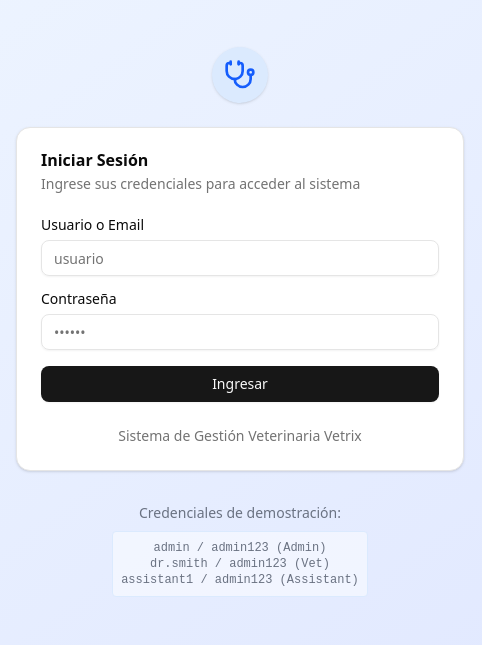
Test: Login Flow Integration › should handle login failure and display error
Expected: the button is enabled, [41,366,439,402]
Type "wrong" into the field labelled "Usuario o Email" at (240, 258), box [41,240,439,276]
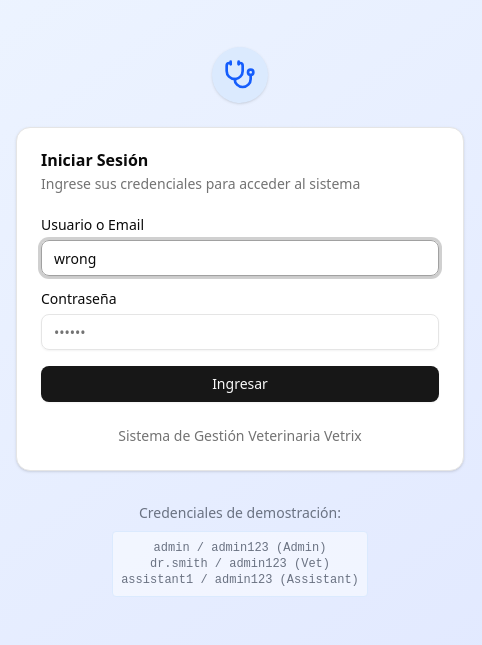
Type "wrong" into the password field labelled "Contraseña" at (240, 332), box [41,314,439,350]
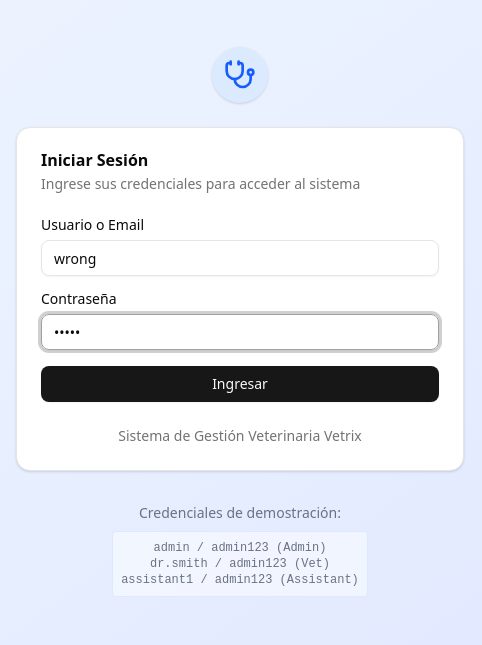
Click the button "Ingresar" at (240, 384), box [41,366,439,402]
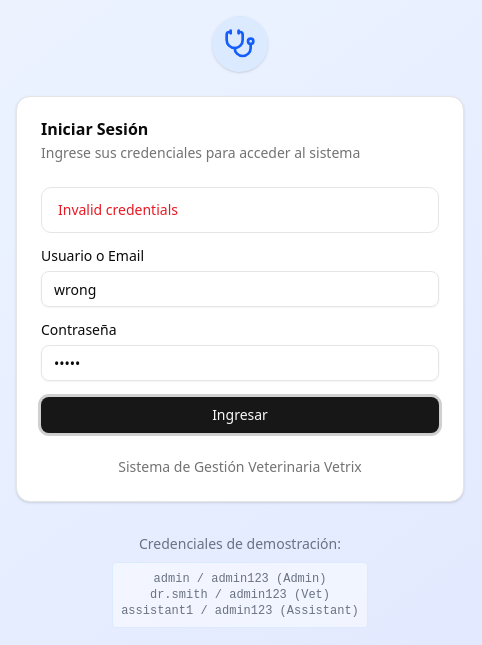
Now the text "Invalid credentials" is shown, box [58,200,178,219]
